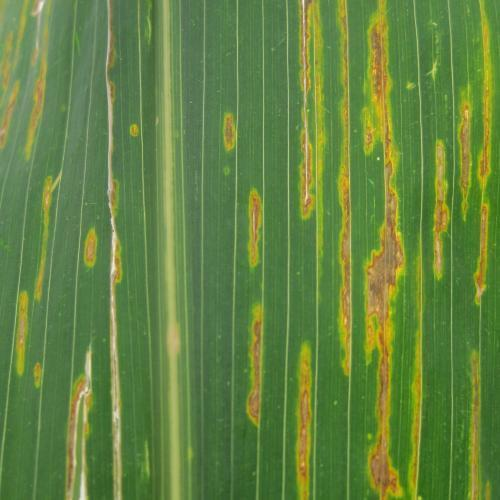Corn_Blight: (363, 5, 410, 494), (418, 111, 500, 316), (93, 4, 144, 303), (42, 344, 119, 494), (297, 6, 355, 190), (12, 15, 70, 173), (245, 187, 312, 290), (240, 304, 283, 458), (296, 329, 335, 495), (212, 96, 264, 173), (8, 273, 39, 388), (61, 208, 95, 279)
